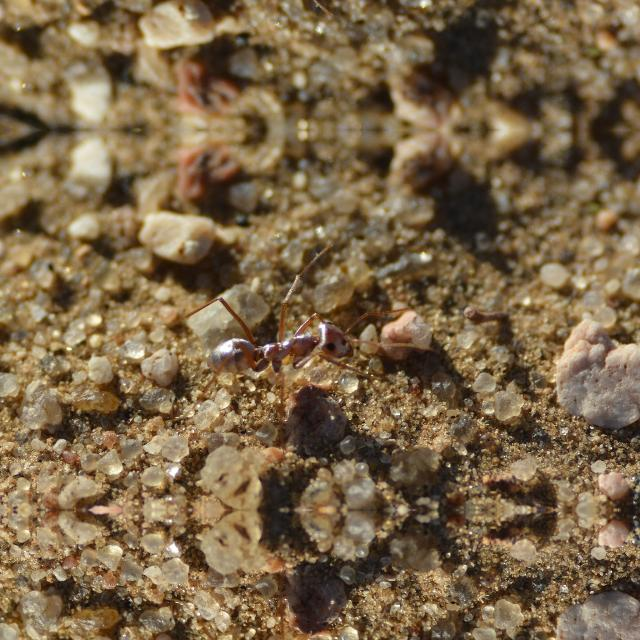Cataglyphis: (182, 300, 390, 388)
